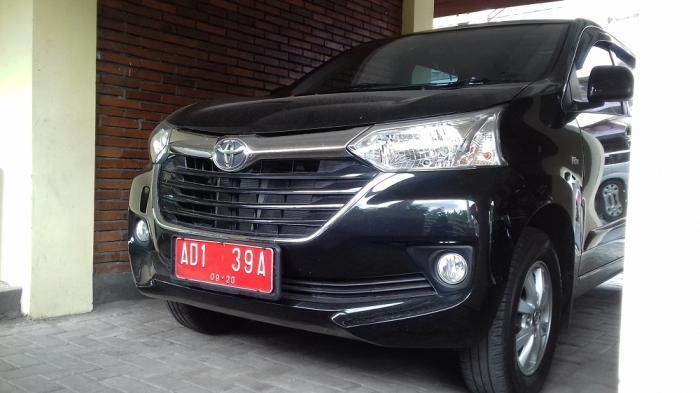plate: (175, 236, 274, 296)
